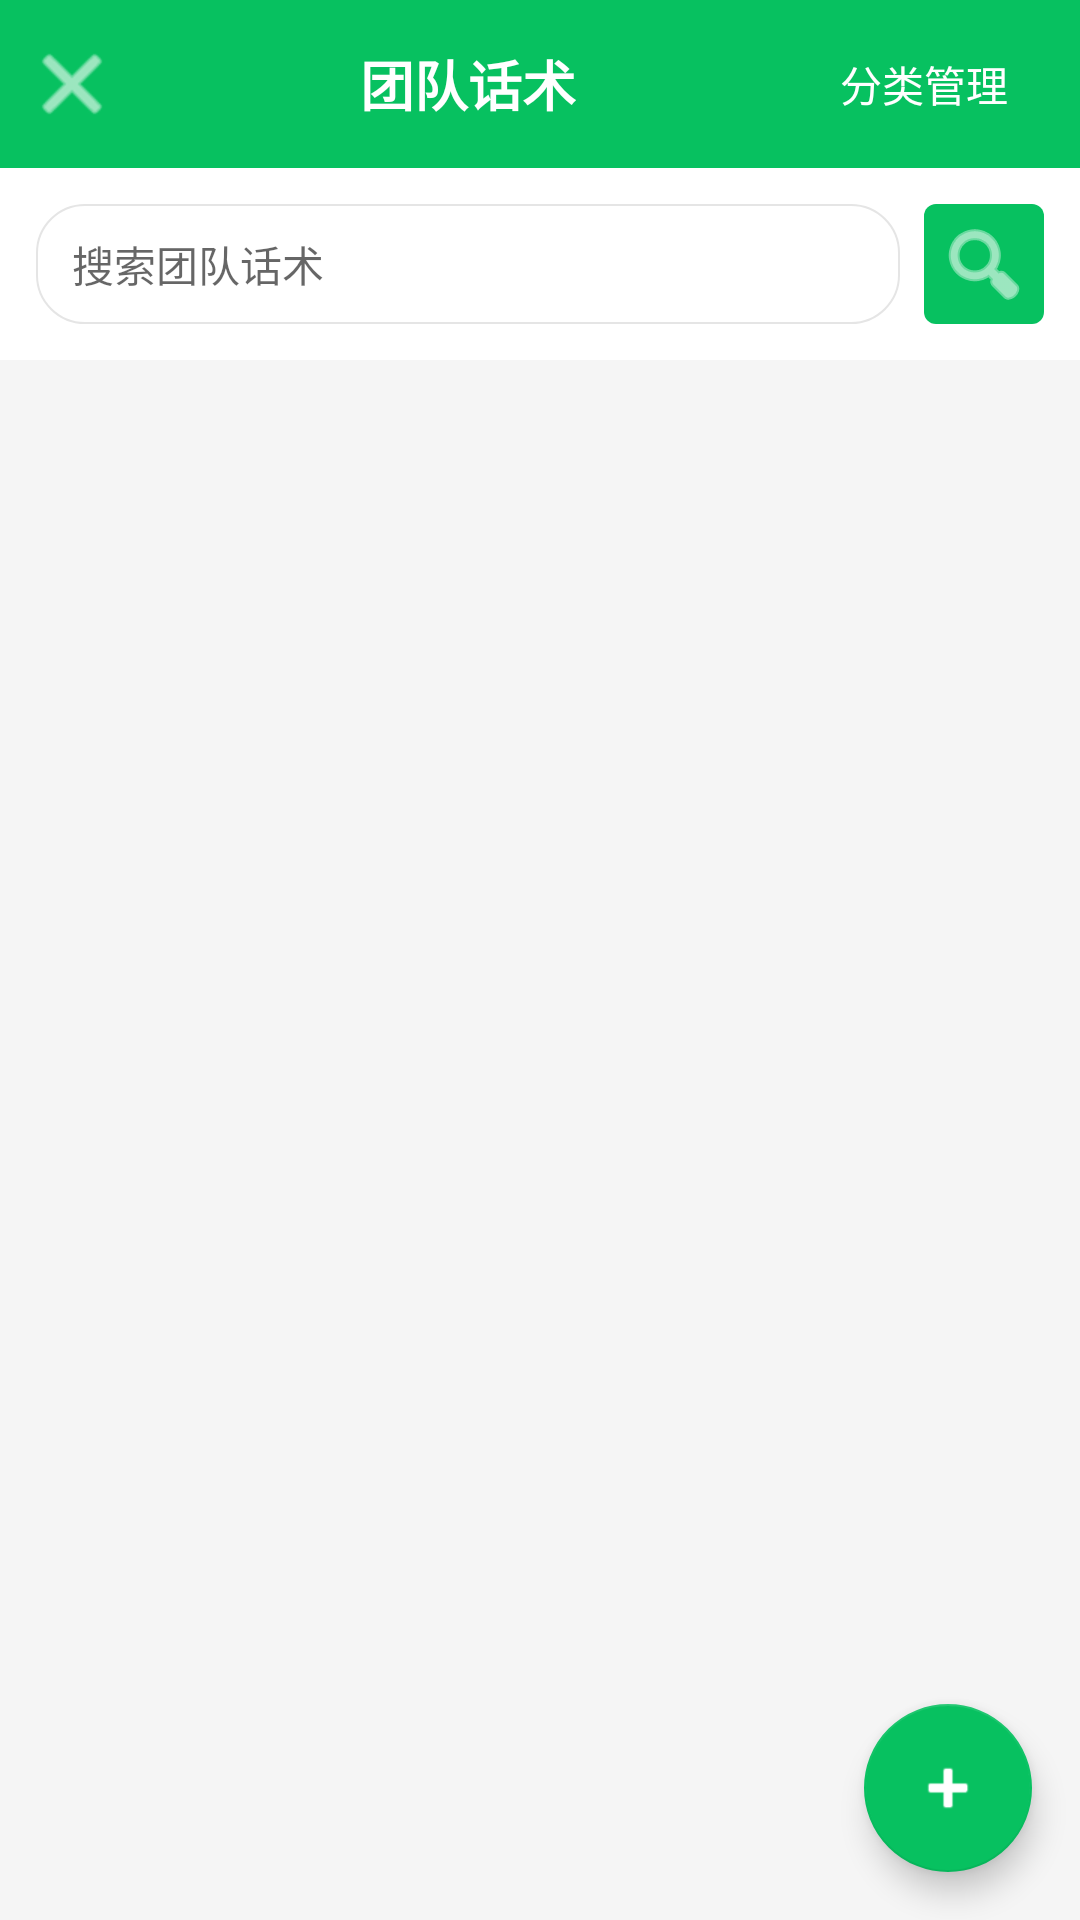

Icons on this 1080×1920 Android screen, each with the point to tap as point (x, y):
add: point (948, 1788)
close clear cancel: point (72, 84)
search: point (984, 264)
